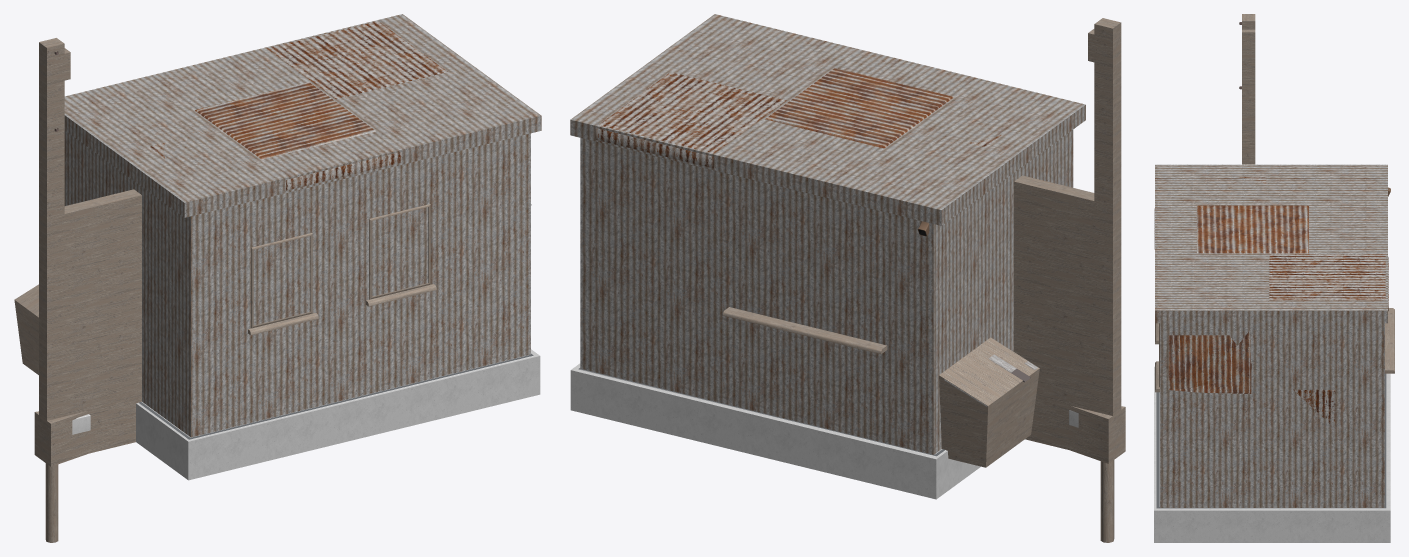
Rendered from si_small_shack.DAE.
The picture shows the model from 3 angles, left to right: view 1: azimuth 30°, elevation 25°; view 2: azimuth 150°, elevation 25°; view 3: azimuth 270°, elevation 25°; orthographic projection. The views are drawn at different scales.
Parts seen in each view (by area): view 1: Colmesh-1, si_small_shack300; view 2: Colmesh-1, si_small_shack300; view 3: Colmesh-1, si_small_shack300, si_small_shack60.
Part boxes in pixels (left/top/right/bottom): Colmesh-1: left=14, top=14, right=541, bottom=480; si_small_shack300: left=45, top=21, right=533, bottom=542; Colmesh-1: left=570, top=14, right=1125, bottom=499; si_small_shack300: left=578, top=68, right=1114, bottom=542; Colmesh-1: left=1154, top=14, right=1390, bottom=542; si_small_shack300: left=1154, top=22, right=1394, bottom=508; si_small_shack60: left=1168, top=335, right=1335, bottom=428.
Bounding box in the file's own units: 615 × 345 × 660.
